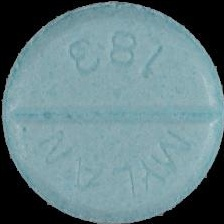43353-961: (0, 0, 224, 224)
